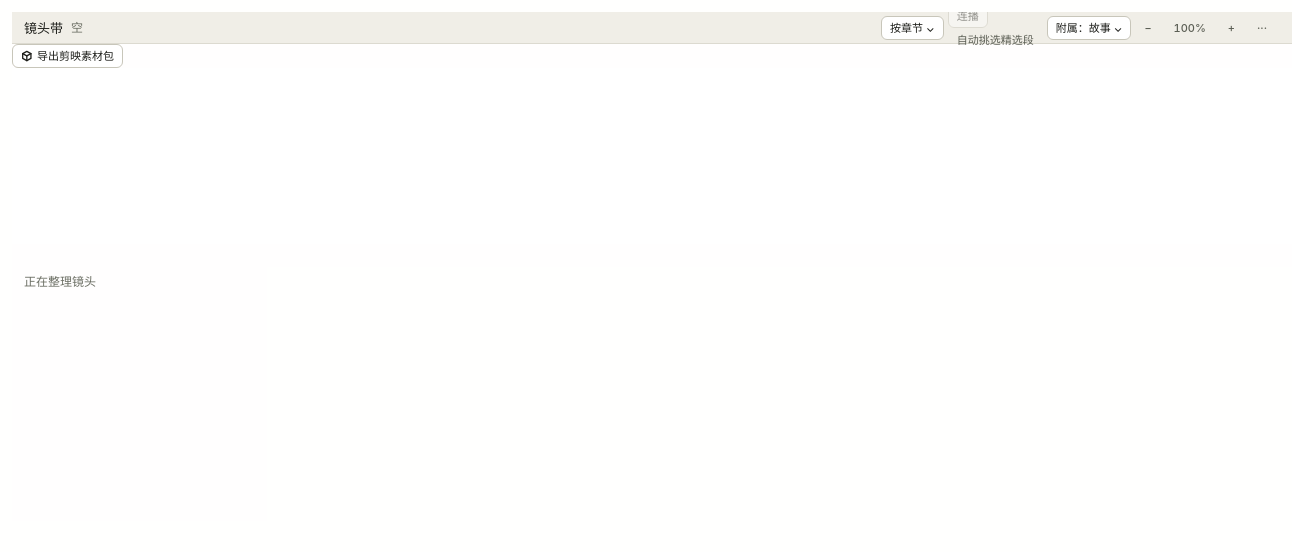
Test: 附属带分段控件 › 「旅程」在下方展开只读 JourneyTimeline
Click the button "附属：故事 ⌄" at (1089, 28), box left=1047, top=16, right=1131, bottom=40
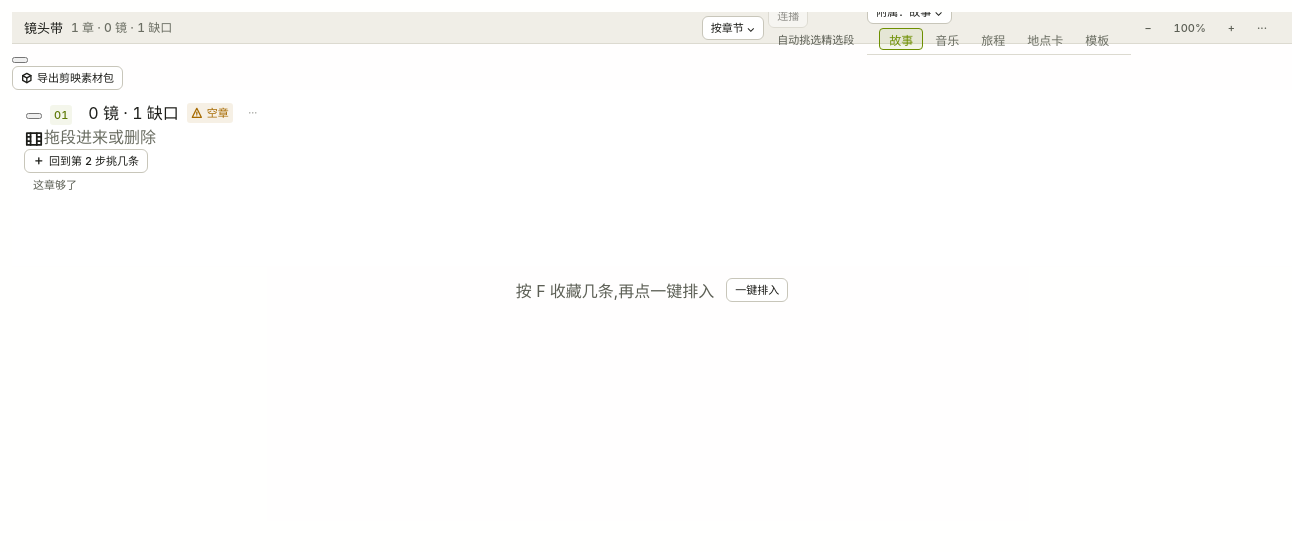
Now the element named "镜头带附属视图" is shown, box left=867, top=24, right=1131, bottom=55
Click the tab "旅程" at (993, 39), box left=971, top=28, right=1015, bottom=50
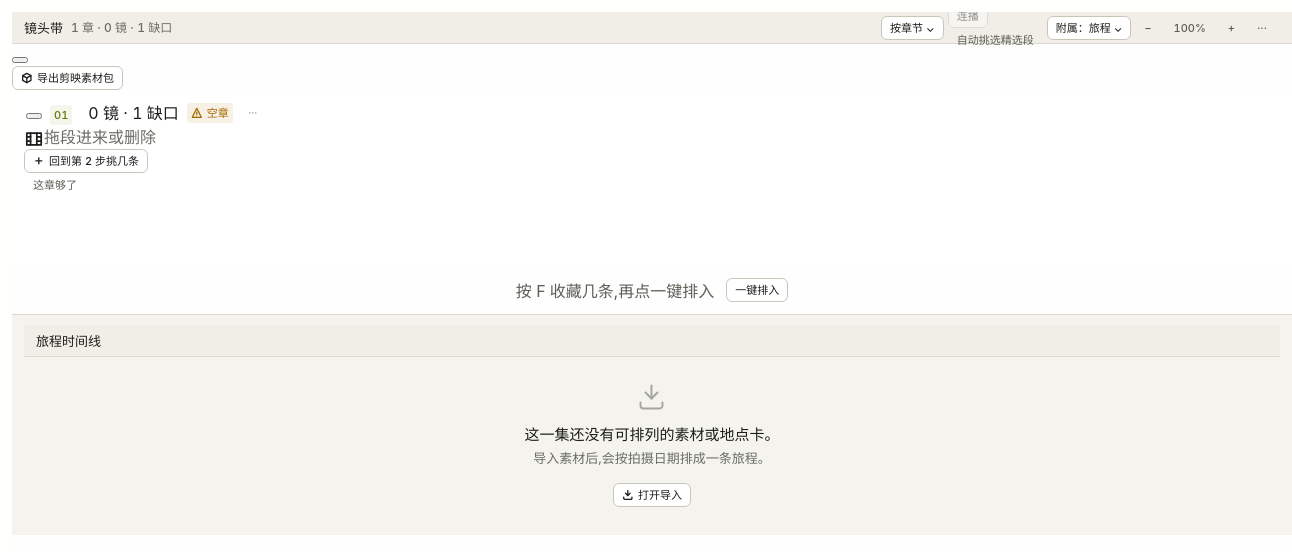
Now the text "旅程时间线" is shown, box left=36, top=332, right=101, bottom=350
Now the panel with test id "band-accessory" is shown, box left=12, top=314, right=1291, bottom=535
